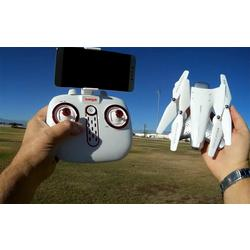drone: (155, 70, 234, 160)
